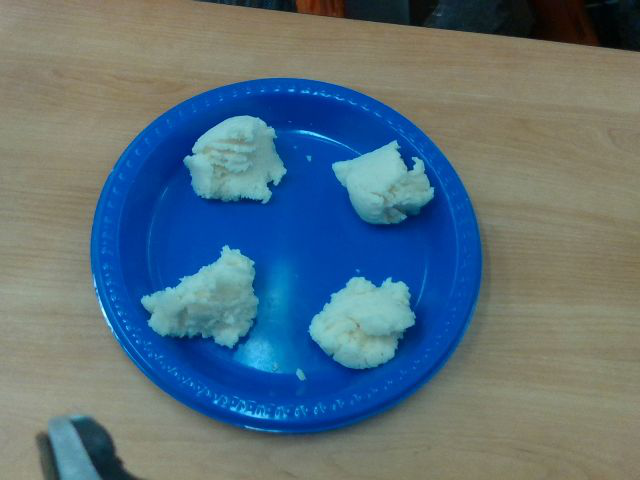mashed_potato: (140, 245, 258, 349), (309, 276, 415, 369), (183, 115, 287, 202), (332, 140, 435, 224)
